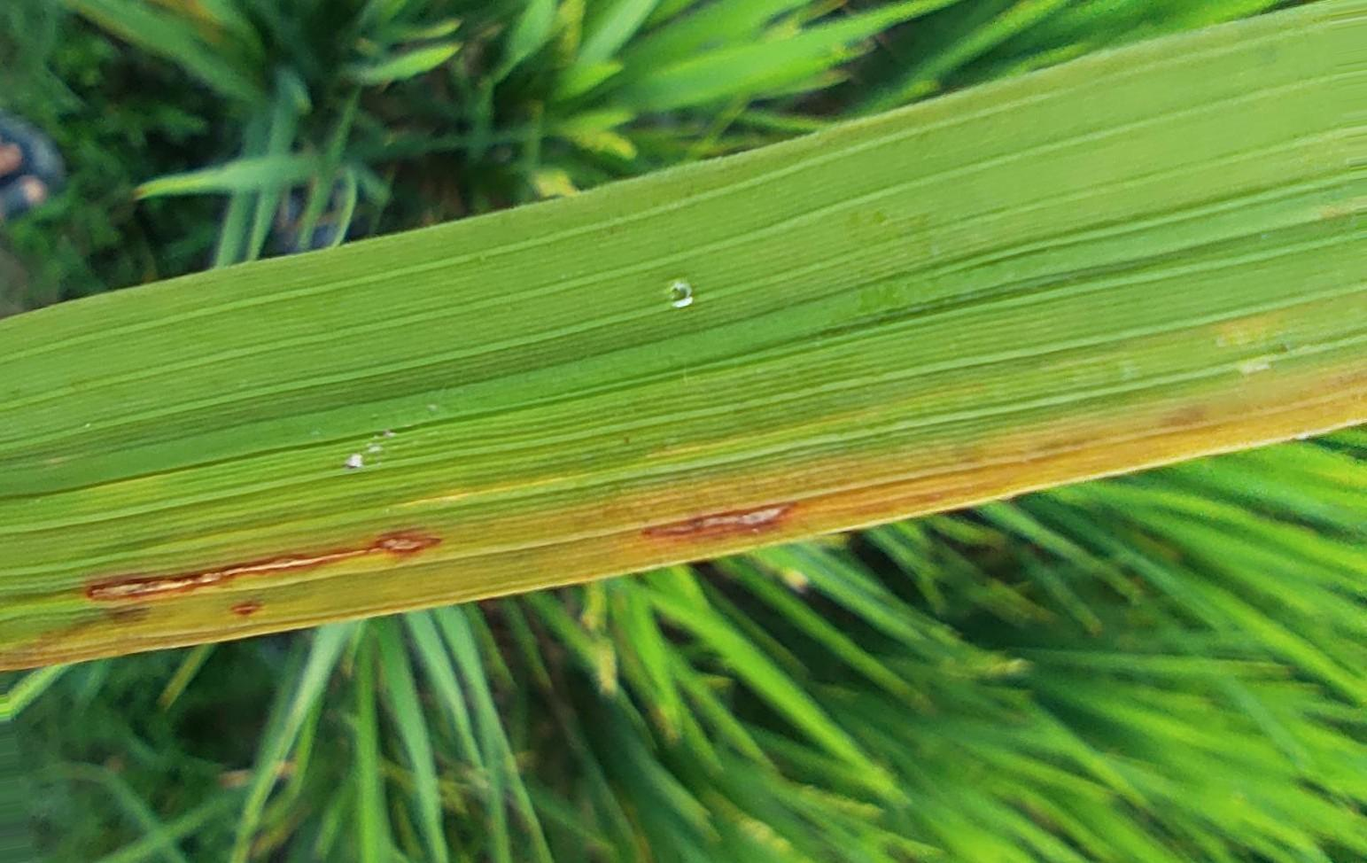LEAF: (0, 0, 1366, 669)
LEAF BLAST: (82, 530, 446, 603), (643, 502, 792, 540), (228, 601, 263, 618)
